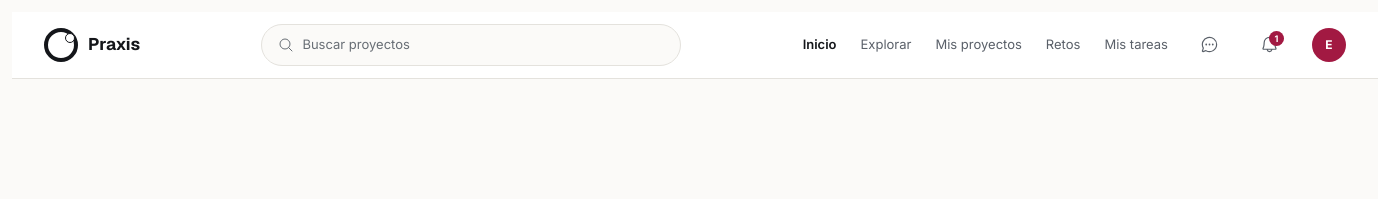
Scenario: Navbar — notification dropdown › opens the list, marks an unread notification as read, and navigates to its link
Click the button named "Notificaciones".
click(1270, 45)  # box [1252,27,1288,63]
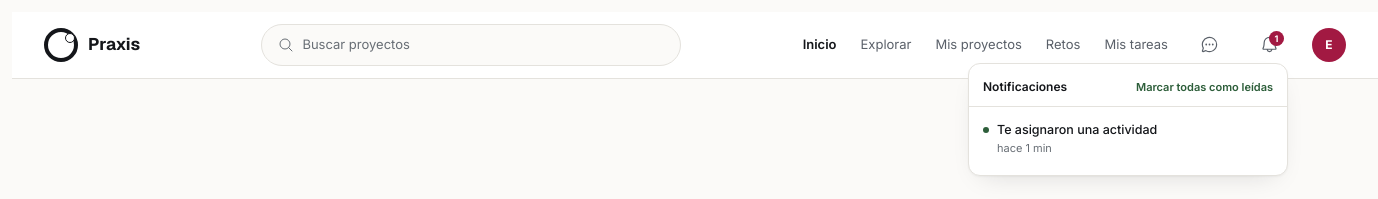
Click the text "Te asignaron una actividad".
click(1077, 130)  # box [997,122,1157,137]
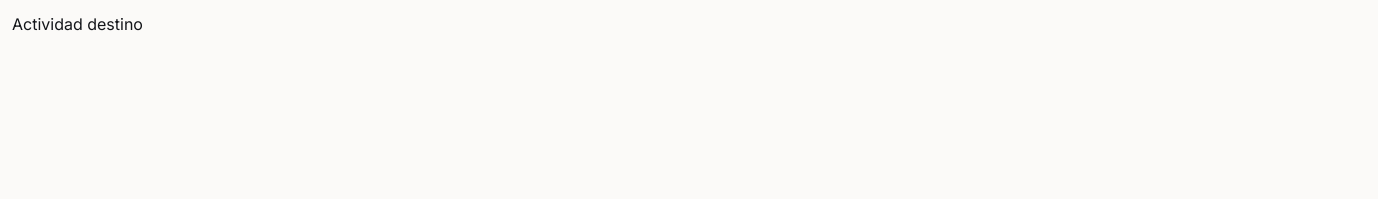
expect the text "Actividad destino" is shown: met, box [12,14,143,34]
